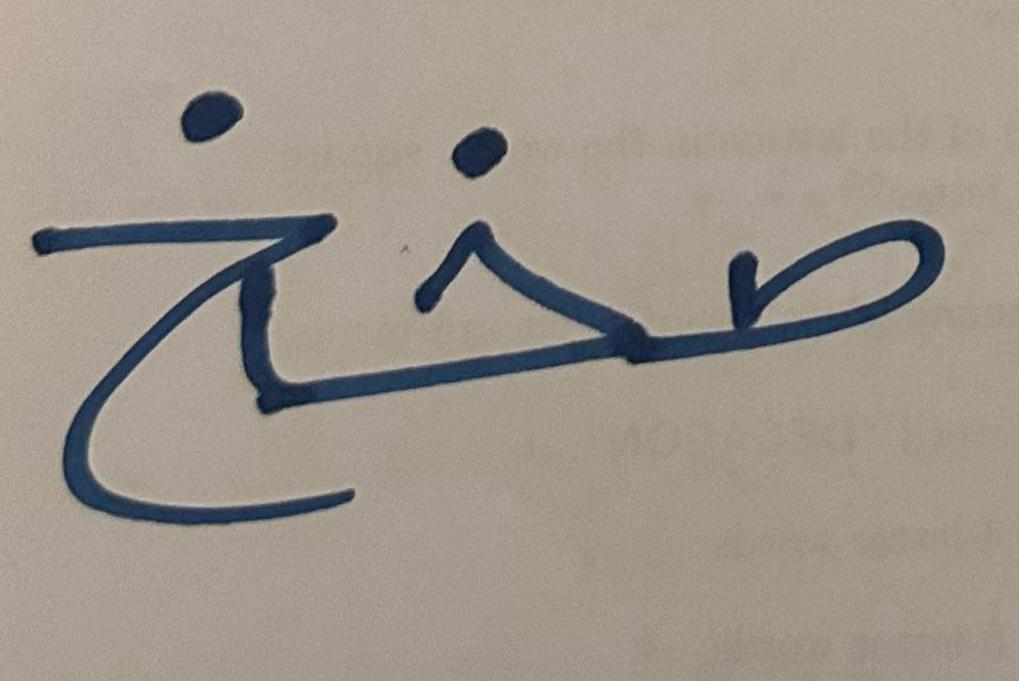lam: (4, 23, 382, 557), (383, 94, 669, 412)
seen: (672, 152, 992, 407)
